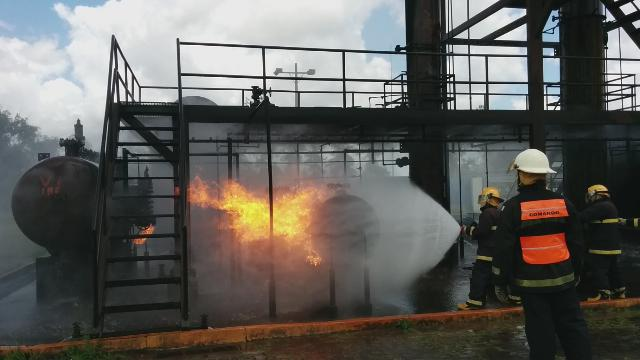fire: (184, 173, 330, 269), (131, 221, 153, 245)
